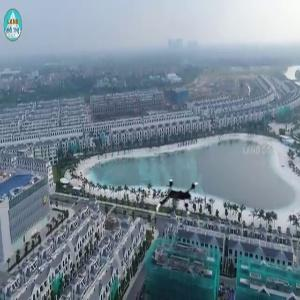drone: (151, 171, 212, 232)
